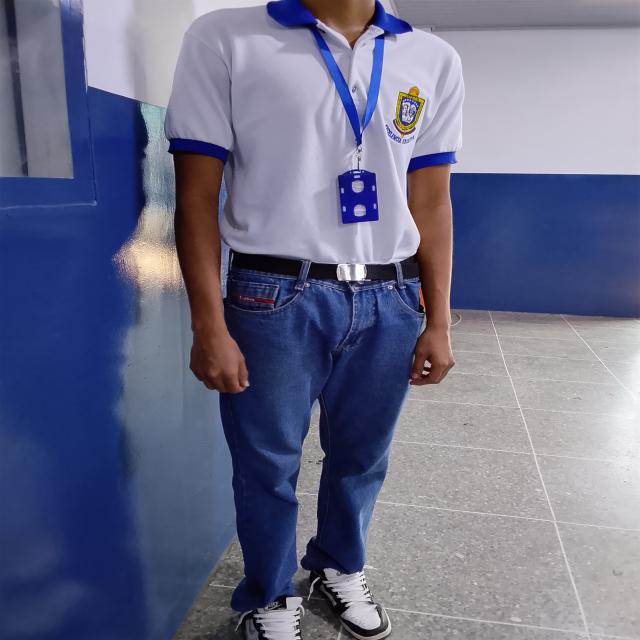carnet: (338, 173, 380, 224)
uniforme_superior: (164, 0, 466, 265)
